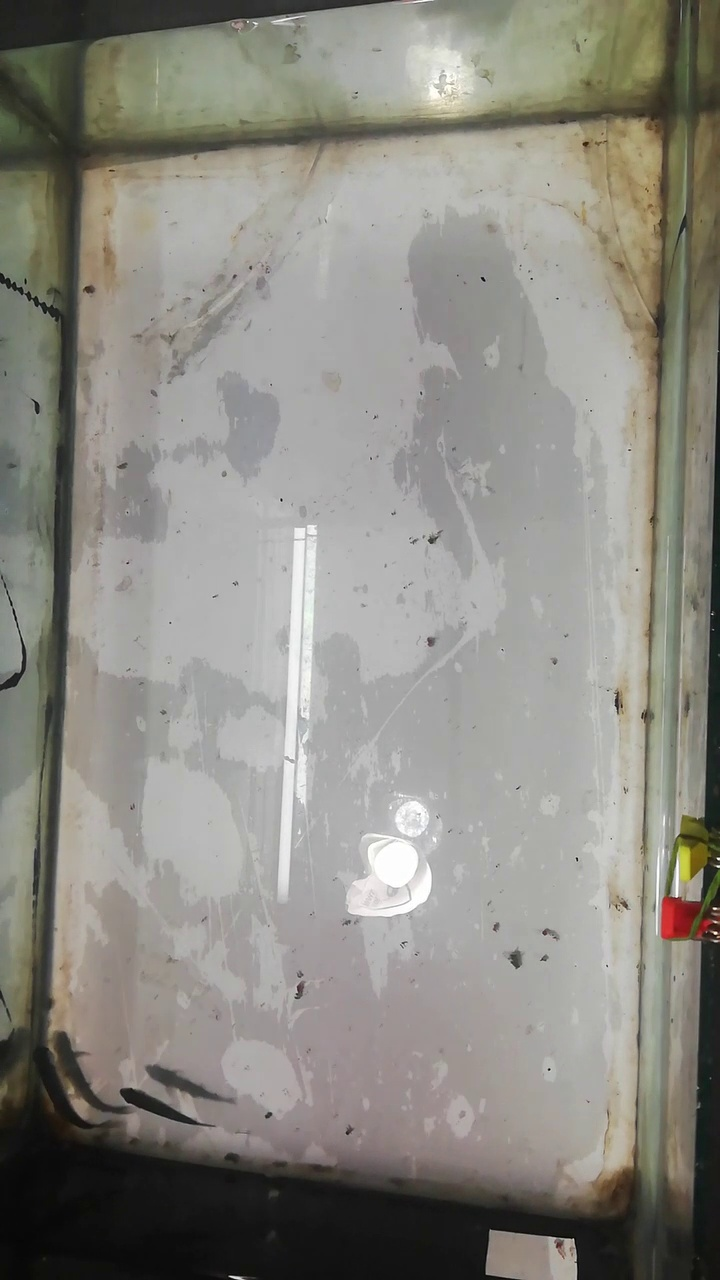fish1: (52, 1029, 118, 1116)
fish2: (118, 1088, 207, 1130)
